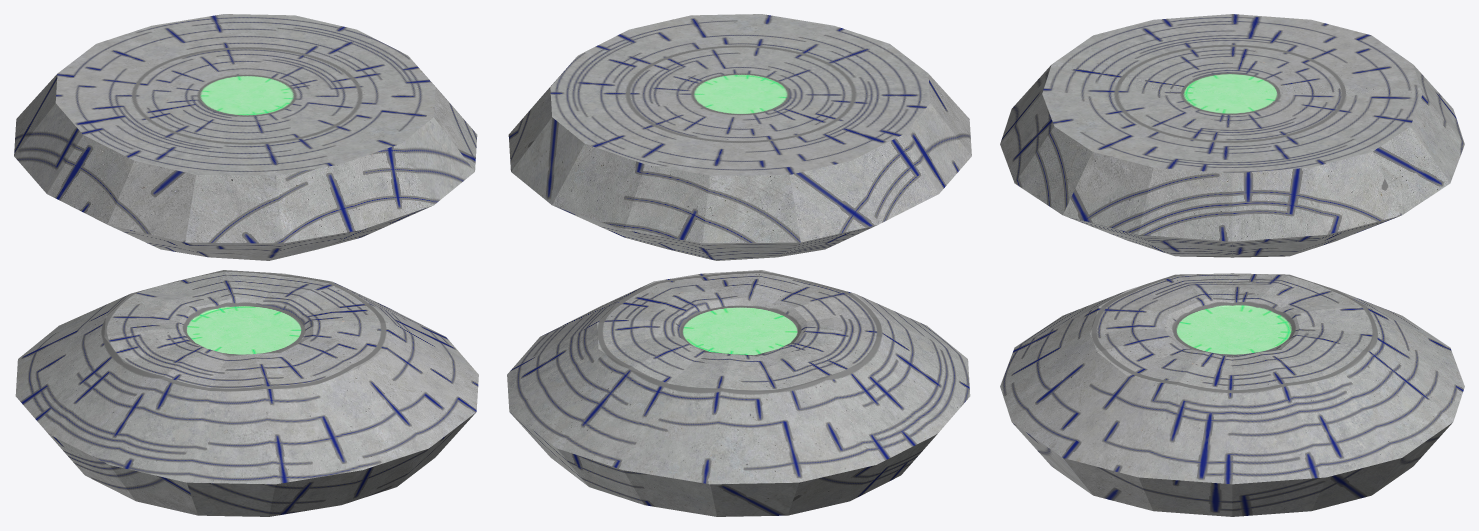
File: TriggerGateS01R01.FBX
3 views of the same model, side by side, from view 1: azimuth 30°, elevation 25°; view 2: azimuth 150°, elevation 25°; view 3: azimuth 270°, elevation 25° (orthographic).
Parts seen in each view (by area): view 1: TriggerSwitchBot, TriggerSwitchTop; view 2: TriggerSwitchBot, TriggerSwitchTop; view 3: TriggerSwitchBot, TriggerSwitchTop.
Part boxes in pixels (bbox=[...]): TriggerSwitchBot: bbox=[15, 270, 478, 516]; TriggerSwitchTop: bbox=[14, 14, 477, 260]; TriggerSwitchBot: bbox=[507, 270, 970, 516]; TriggerSwitchTop: bbox=[508, 14, 971, 260]; TriggerSwitchBot: bbox=[1000, 273, 1464, 516]; TriggerSwitchTop: bbox=[1000, 14, 1464, 257].
Size of the model in its own units: 7.06 by 5.76 by 7.08.
